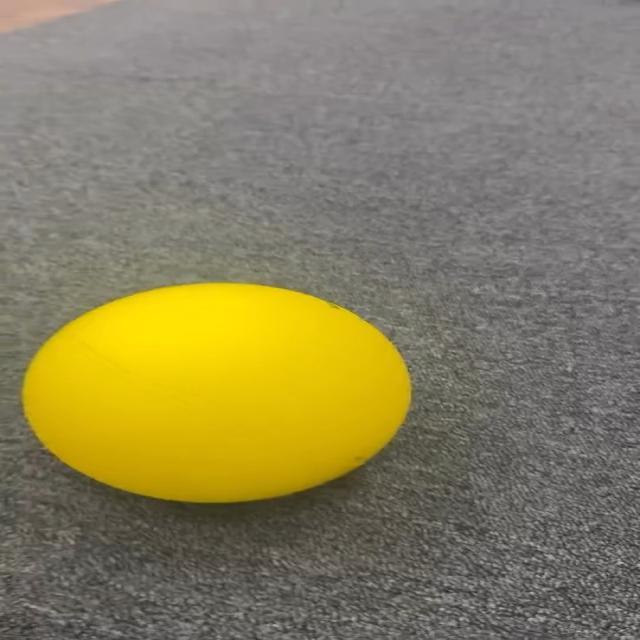Fuels: (21, 280, 406, 498)
